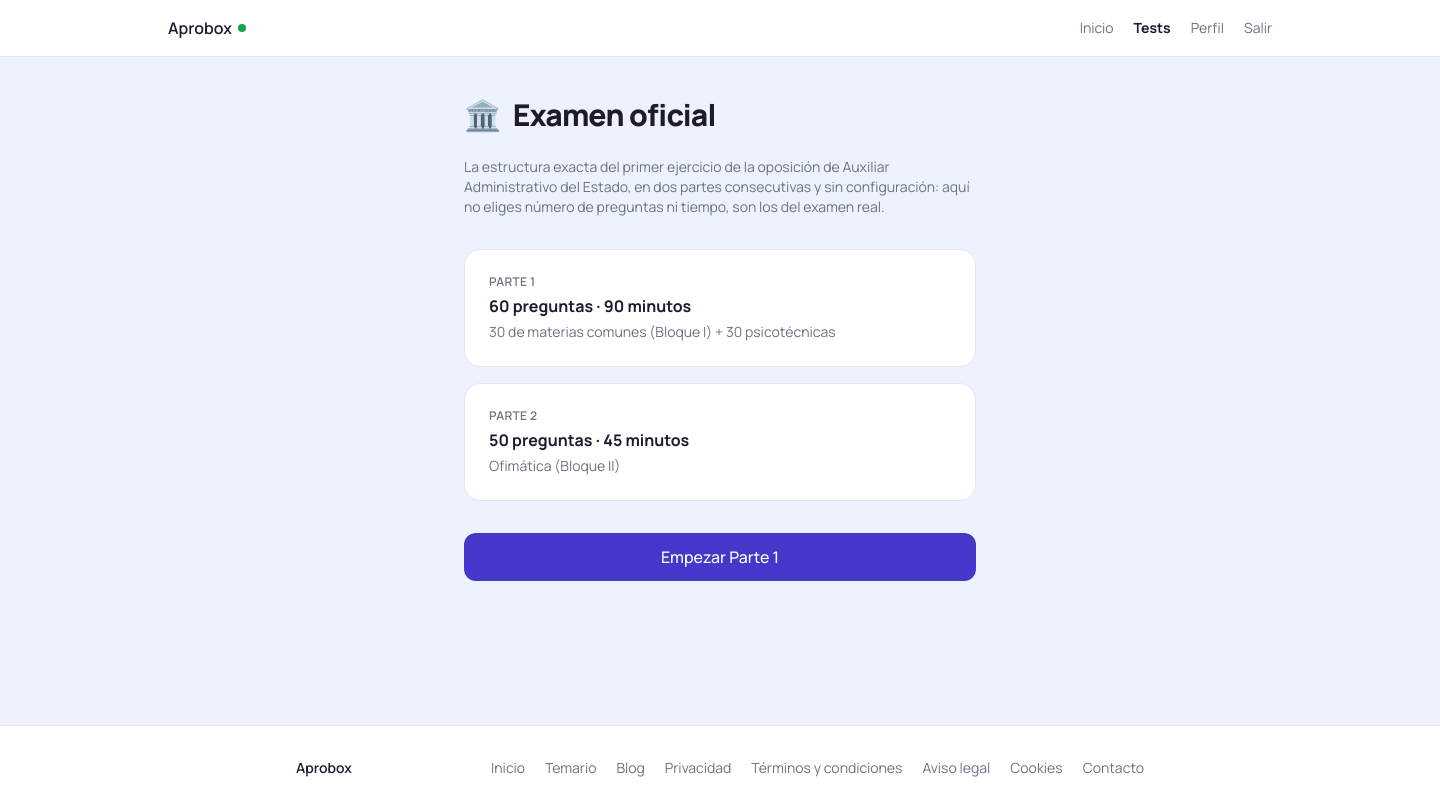
Test: ExamenOficial — flujo (usuario premium) › si el backend responde que no hay preguntas suficientes, muestra el error y no avanza de fase
Click the button "Empezar Parte 1". click: [720, 557]
box: x1=464 y1=533 x2=976 y2=581
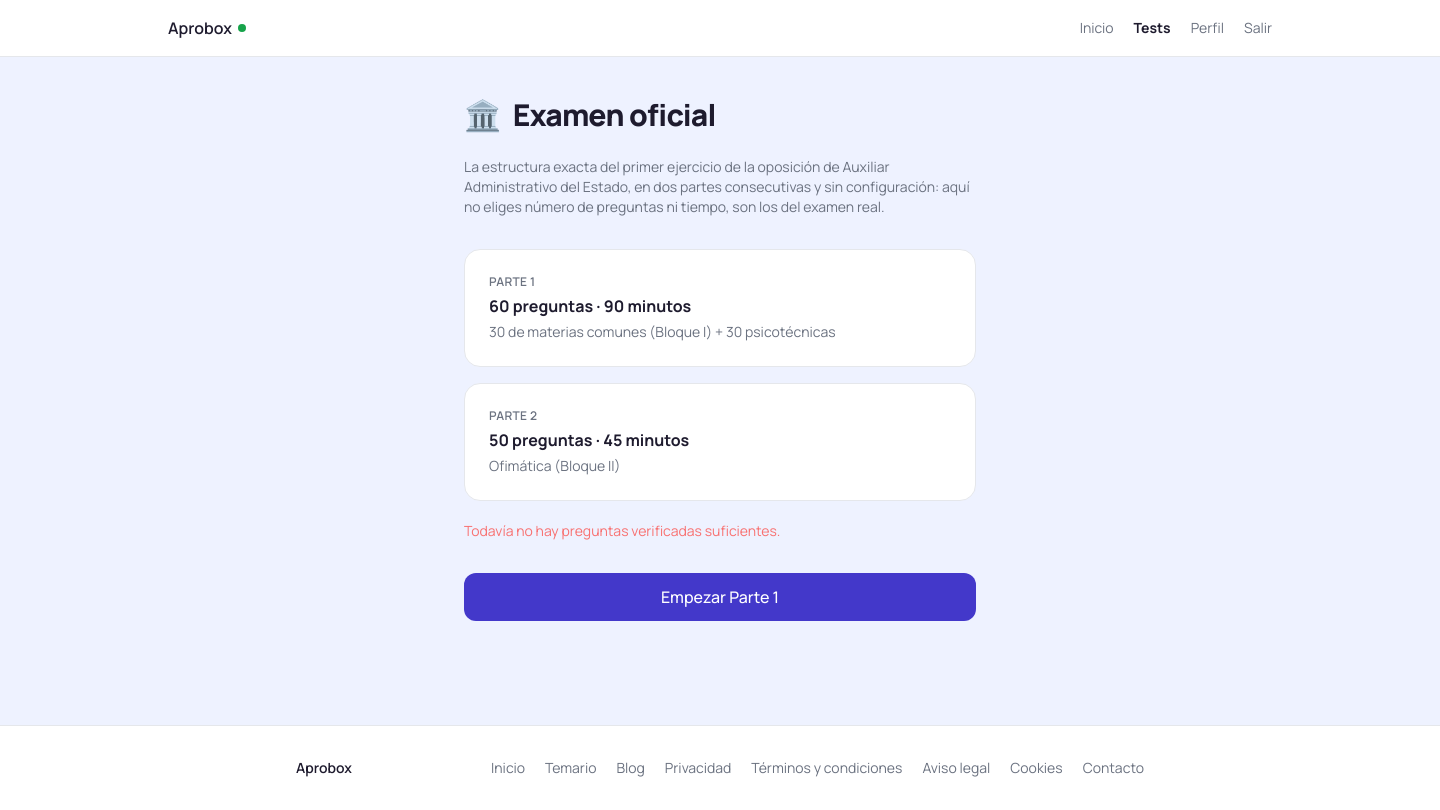
Expected: the button "Empezar Parte 1" is shown, x1=464 y1=573 x2=976 y2=621
Expected: the text "Todavía no hay preguntas verificadas suficientes." is shown, x1=464 y1=521 x2=780 y2=540
